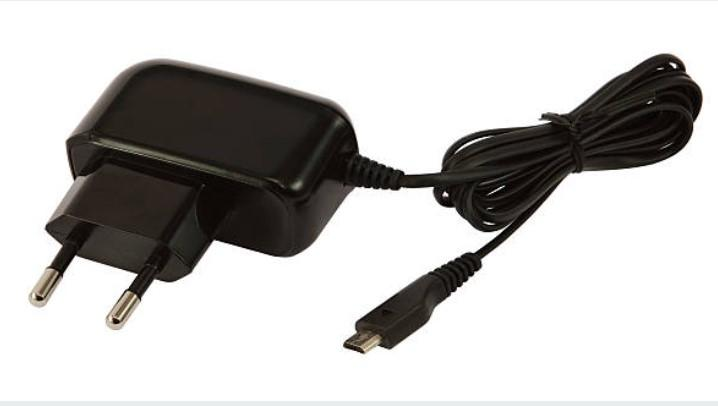cable: (29, 54, 703, 352)
